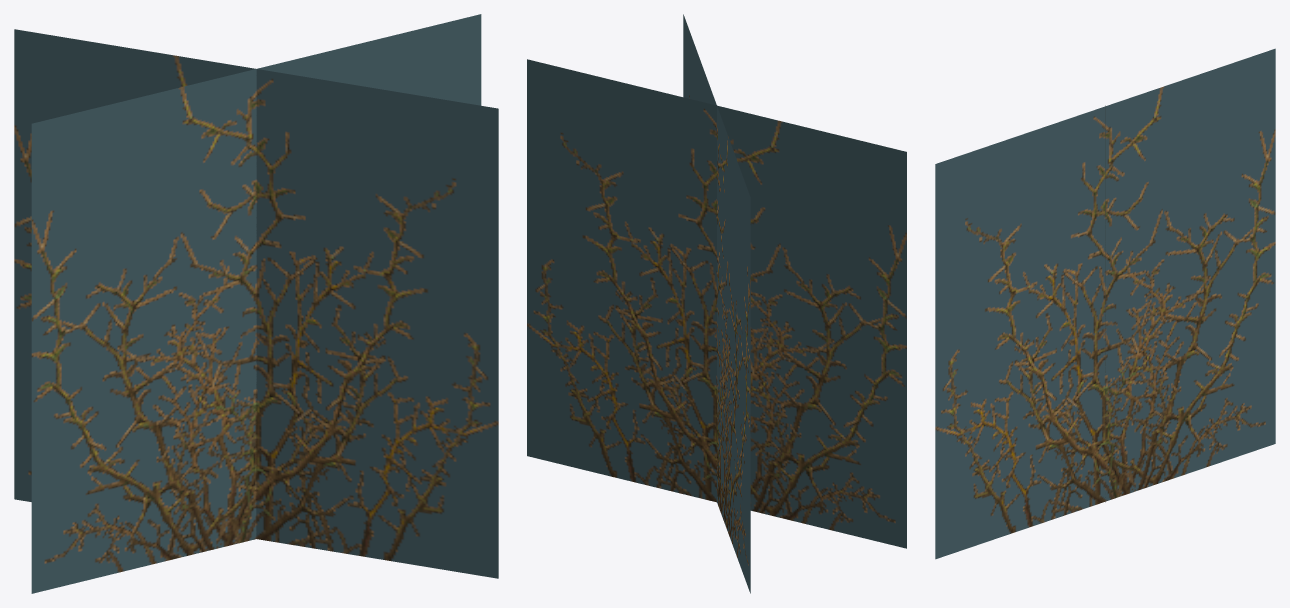
File: xsm_cao_4.FBX
3 views of the same model, side by side, from view 1: azimuth 30°, elevation 25°; view 2: azimuth 150°, elevation 25°; view 3: azimuth 270°, elevation 25° (orthographic). The views are drawn at different scales.
Visible parts, largest first — view 1: xsm_cao_4; view 2: xsm_cao_4; view 3: xsm_cao_4.
Boxes of the visible parts, x1,y1,x2,y2 form: xsm_cao_4: (14, 14, 498, 593); xsm_cao_4: (527, 14, 906, 593); xsm_cao_4: (935, 48, 1275, 559).
Bounding box in the file's own units: 268 × 268 × 209.
